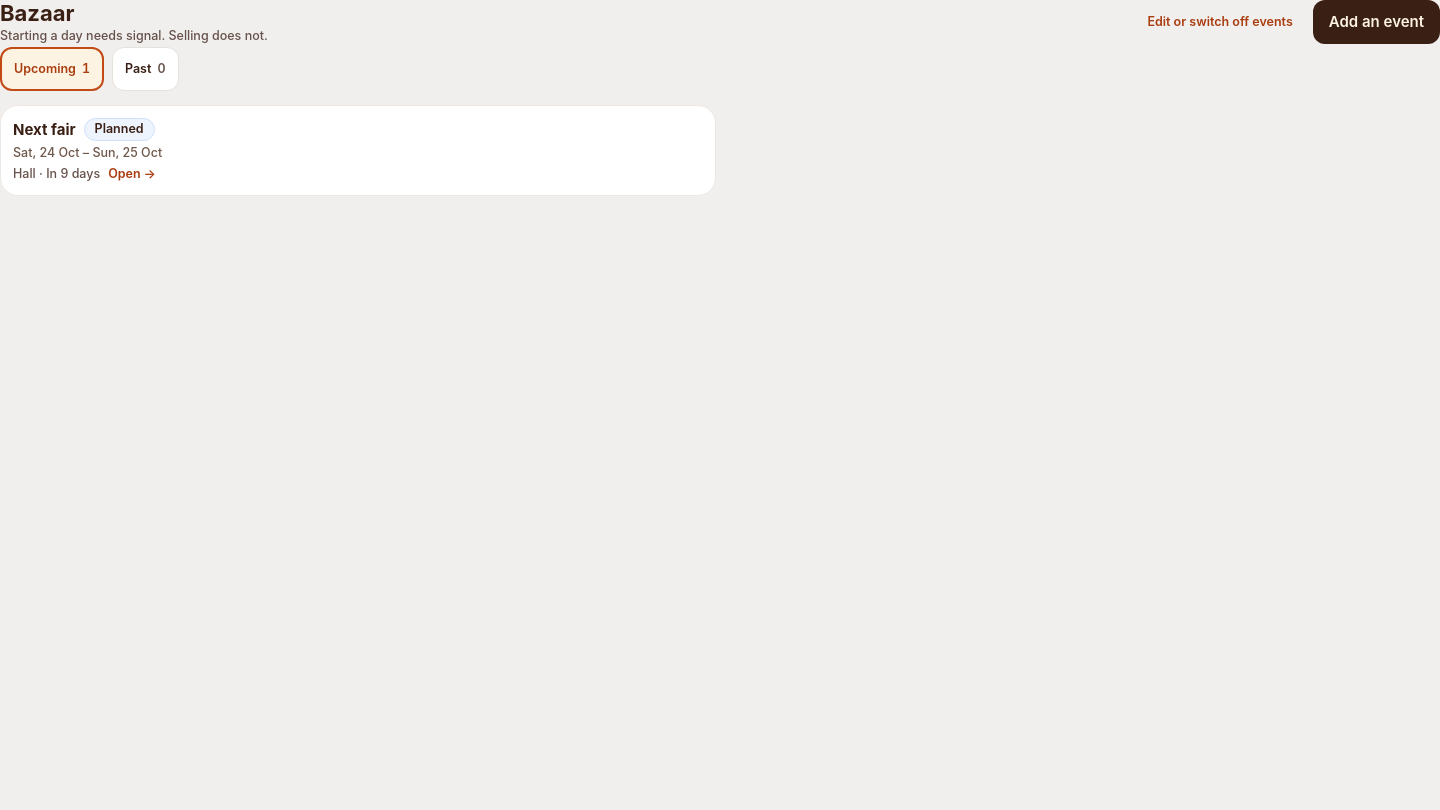
Test: the add-event sheet › the last day follows the first until she sets it, and never lies before it
The width and height of the screenshot is (1440, 810).
Click the button "Add an event": (1376, 22) [1313,0,1439,44]
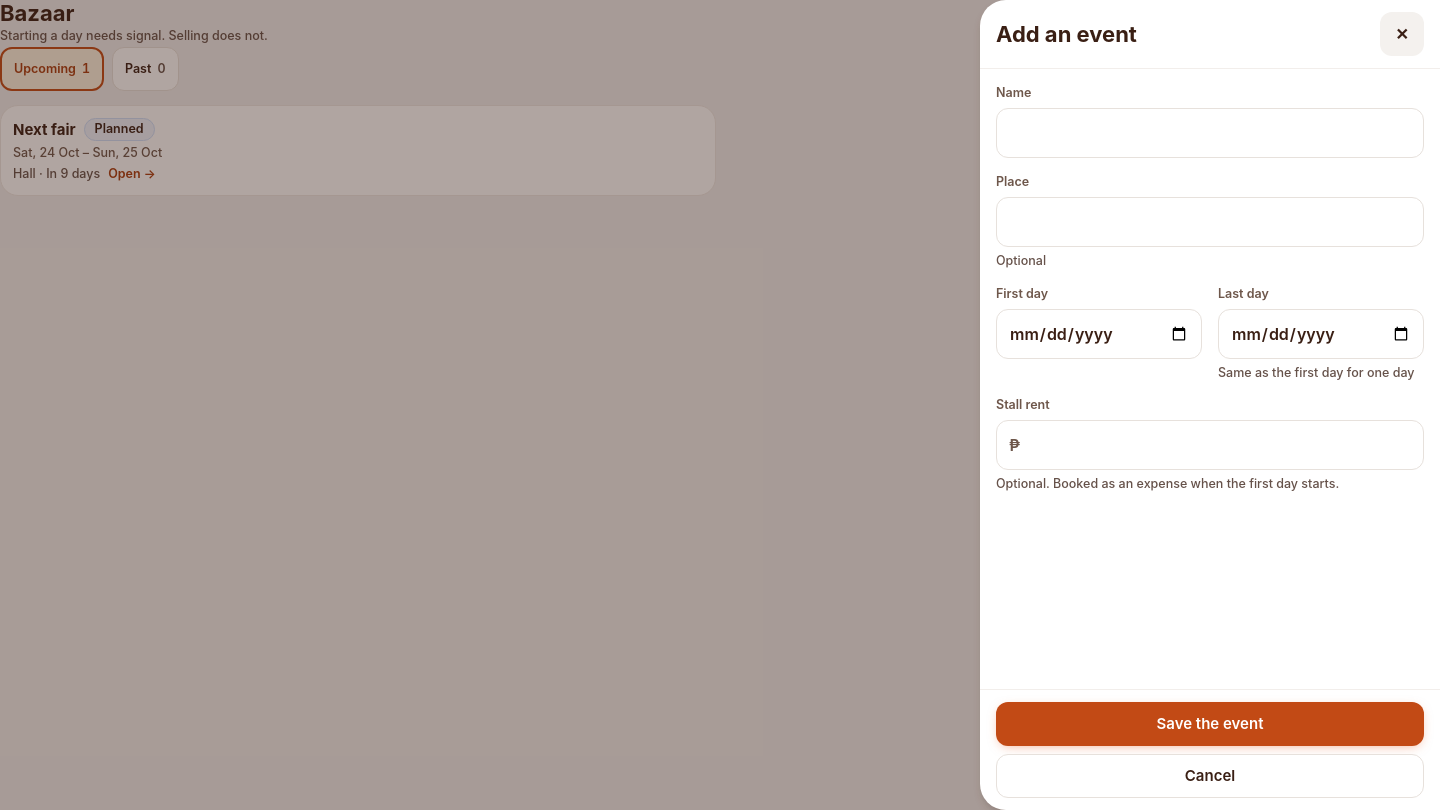
In the date field labelled "First day": (1099, 334) [997,310,1201,358], type "2026-12-12"
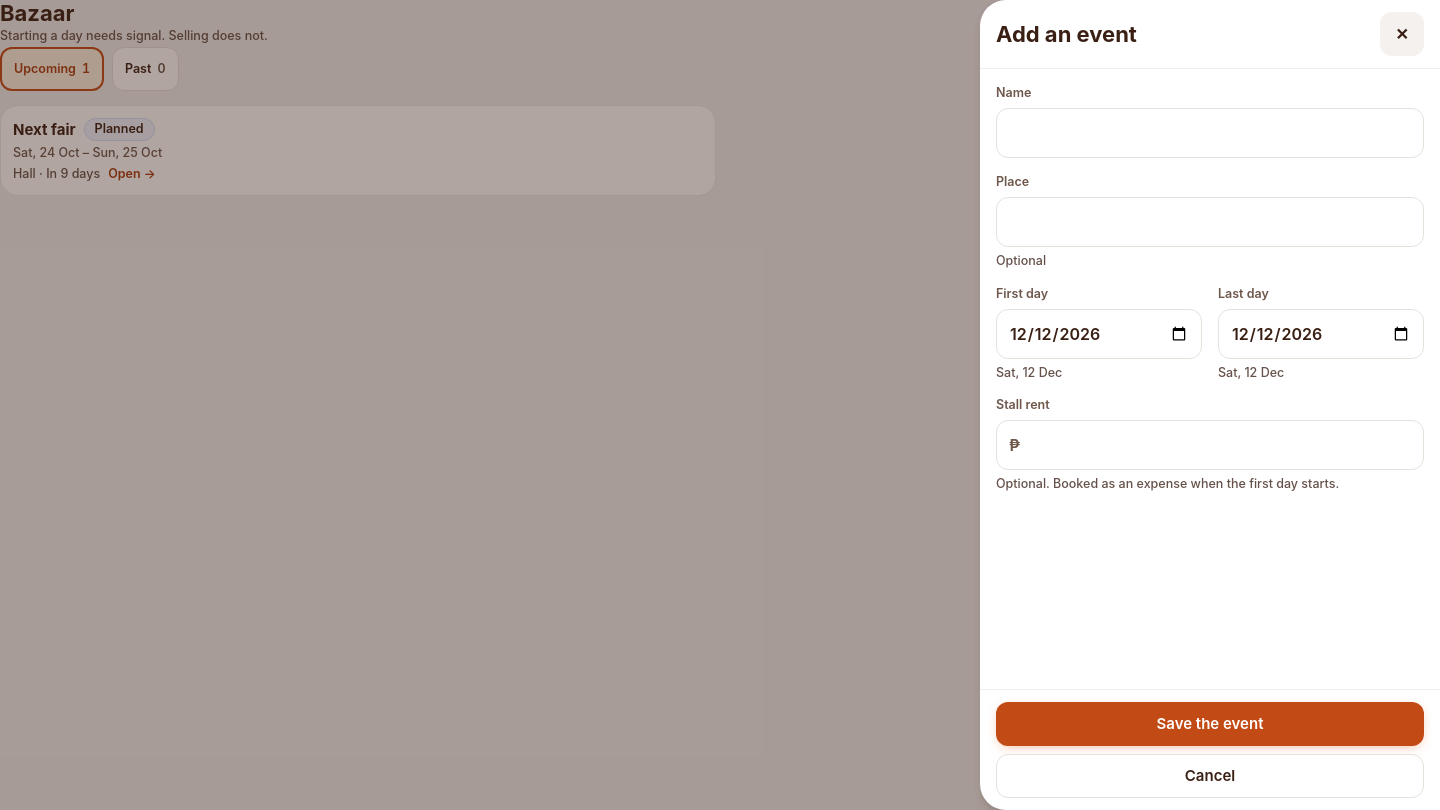
Expected: the date field labelled "Last day" holds "2026-12-12"
Expected: the 1st text "Sat, 12 Dec" is shown, [996,364,1062,380]
In the date field labelled "Last day": (1321, 334) [1219,310,1423,358], type "2026-12-14"
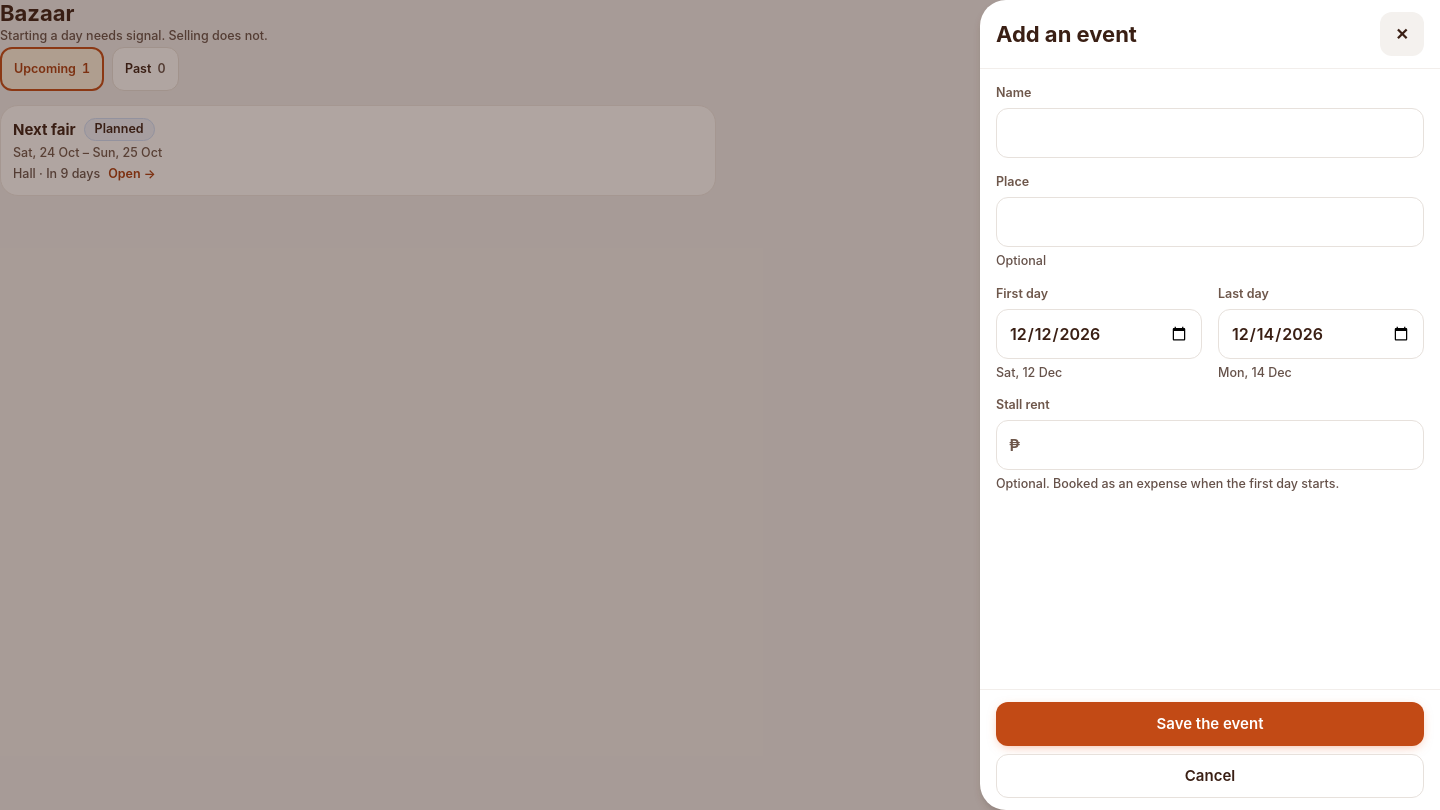
In the date field labelled "First day": (1099, 334) [997,310,1201,358], type "2026-12-13"
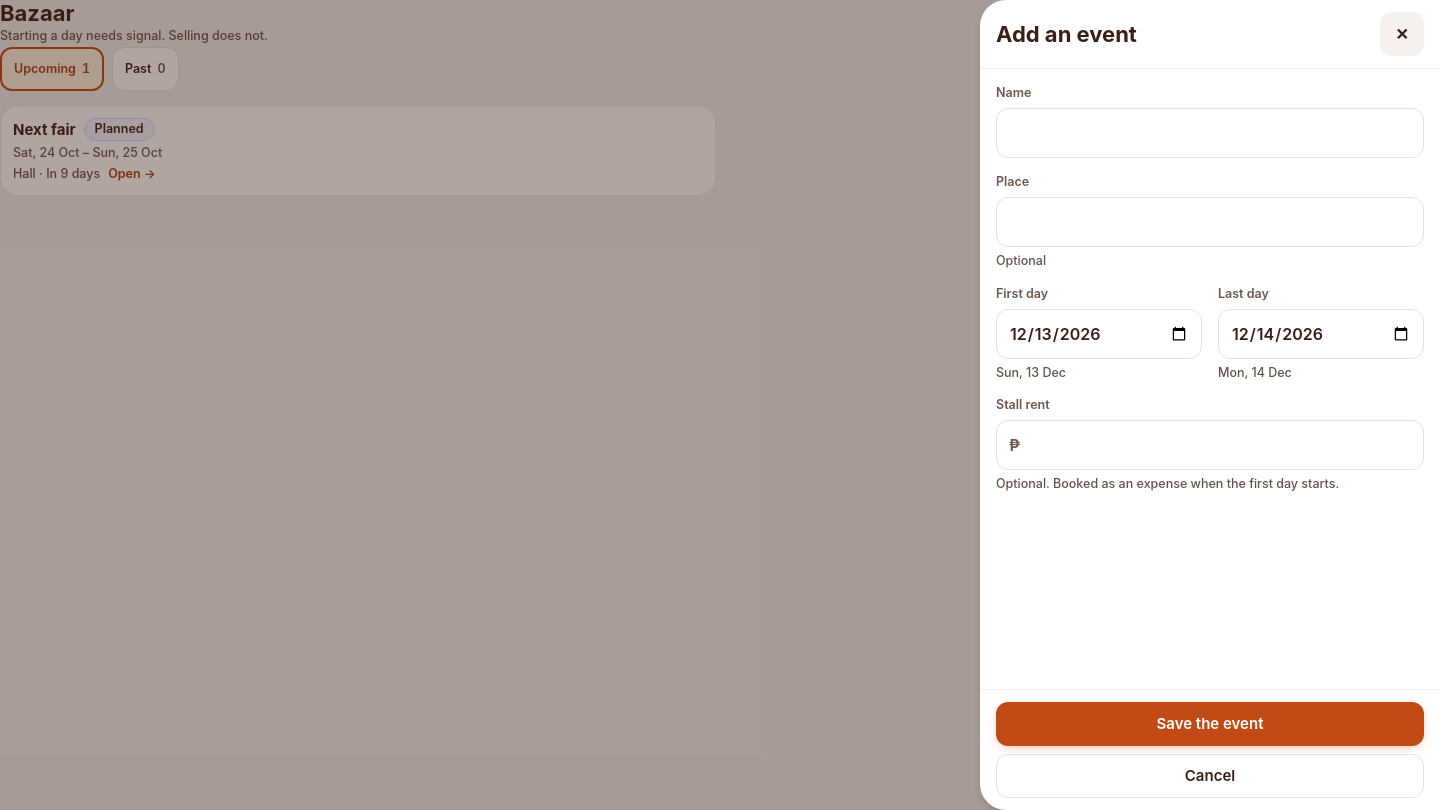
In the date field labelled "First day": (1099, 334) [997,310,1201,358], type "2026-12-20"
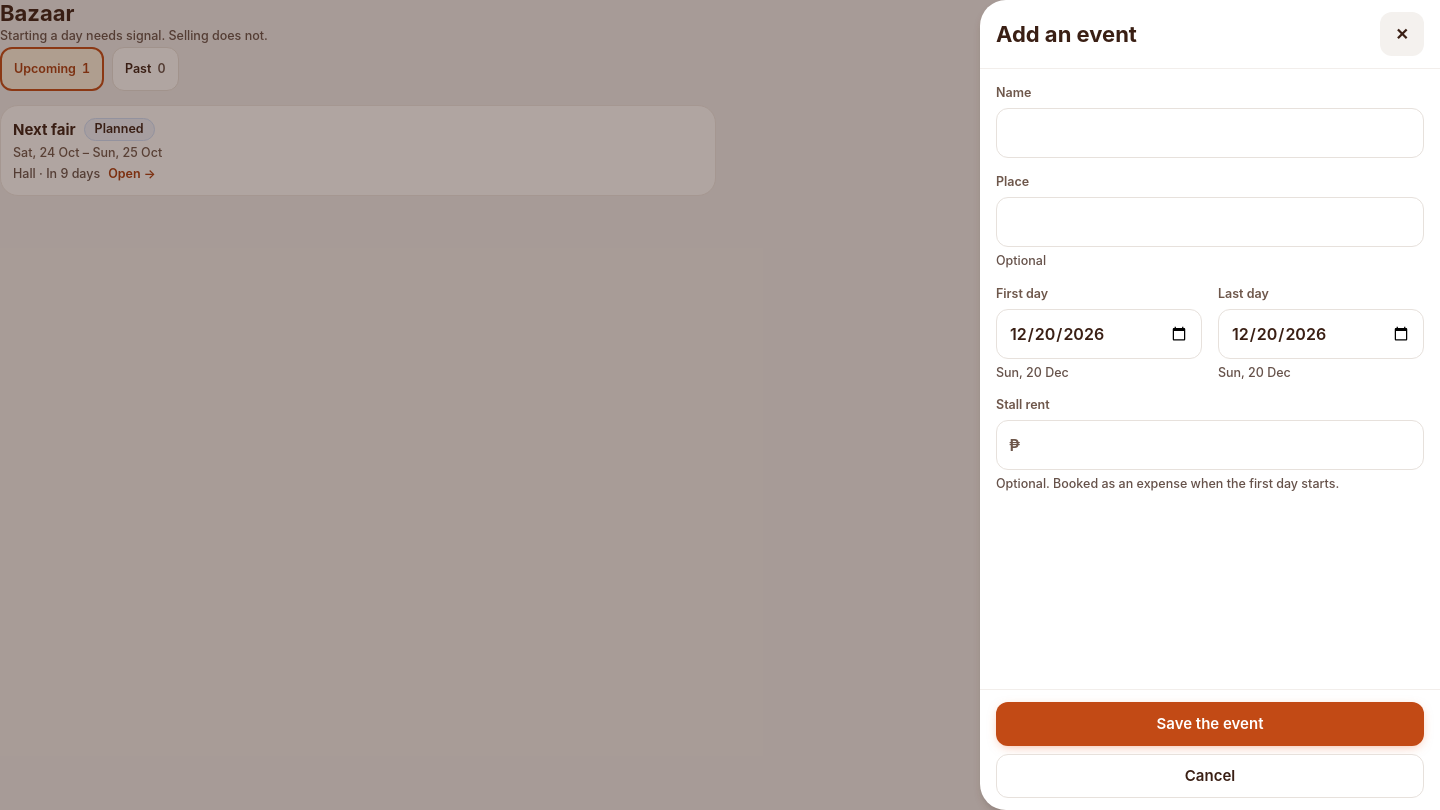
Expected: the date field labelled "Last day" holds "2026-12-20", [1219,310,1423,358]
